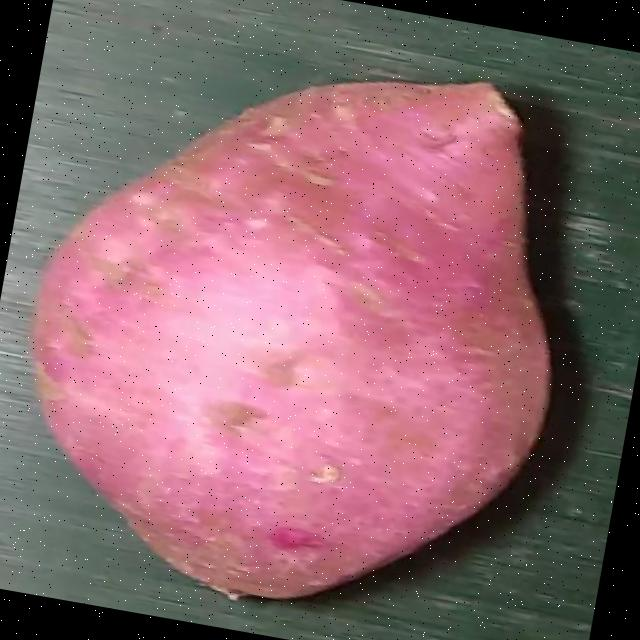Sweet Potato: (27, 77, 553, 600)
